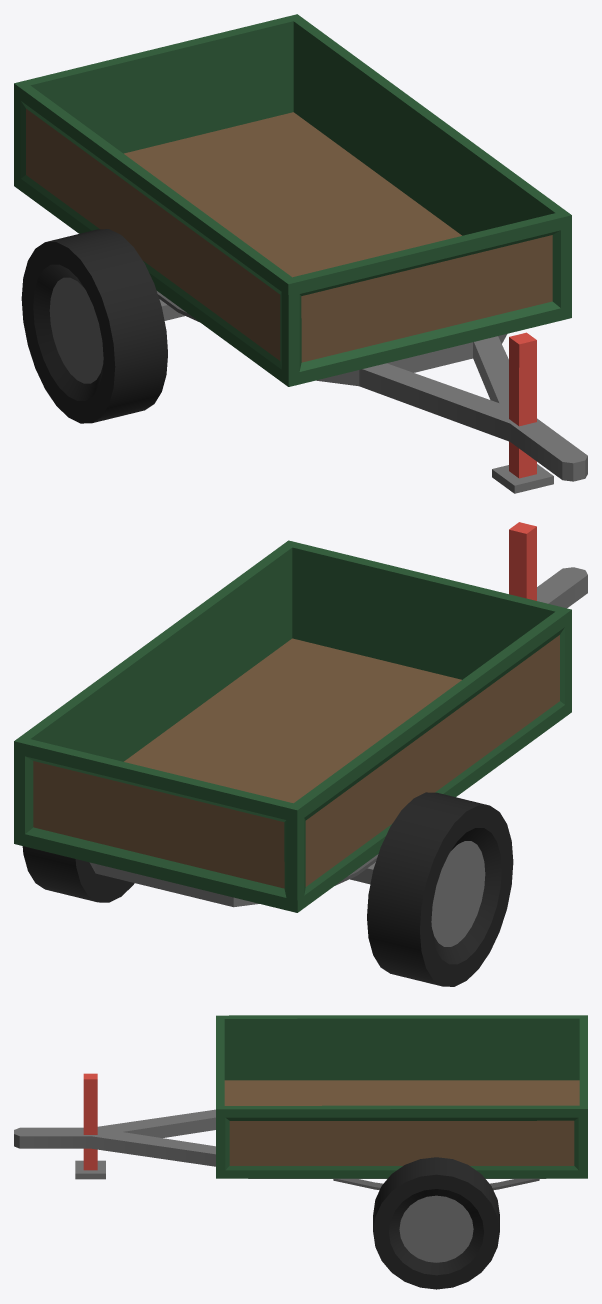
File: Tractor_01_01_Trailer.fbx
3 views of the same model, one above another, from view 1: azimuth 30°, elevation 25°; view 2: azimuth 150°, elevation 25°; view 3: azimuth 270°, elevation 25° (orthographic). The views are drawn at different scales.
Parts seen in each view (by area): view 1: Tractor_01_01_Trailer, Tractor_01_01_Trailer_Leg; view 2: Tractor_01_01_Trailer, Tractor_01_01_Trailer_Leg; view 3: Tractor_01_01_Trailer, Tractor_01_01_Trailer_Leg.
Boxes of the visible parts, x1,y1,x2,y2 form: Tractor_01_01_Trailer: (14, 14, 587, 481); Tractor_01_01_Trailer_Leg: (492, 332, 553, 493); Tractor_01_01_Trailer: (14, 540, 587, 986); Tractor_01_01_Trailer_Leg: (509, 522, 536, 600); Tractor_01_01_Trailer: (14, 1015, 587, 1289); Tractor_01_01_Trailer_Leg: (75, 1073, 105, 1179).
Size of the model in its own units: 2.53 by 1.45 by 4.66.
